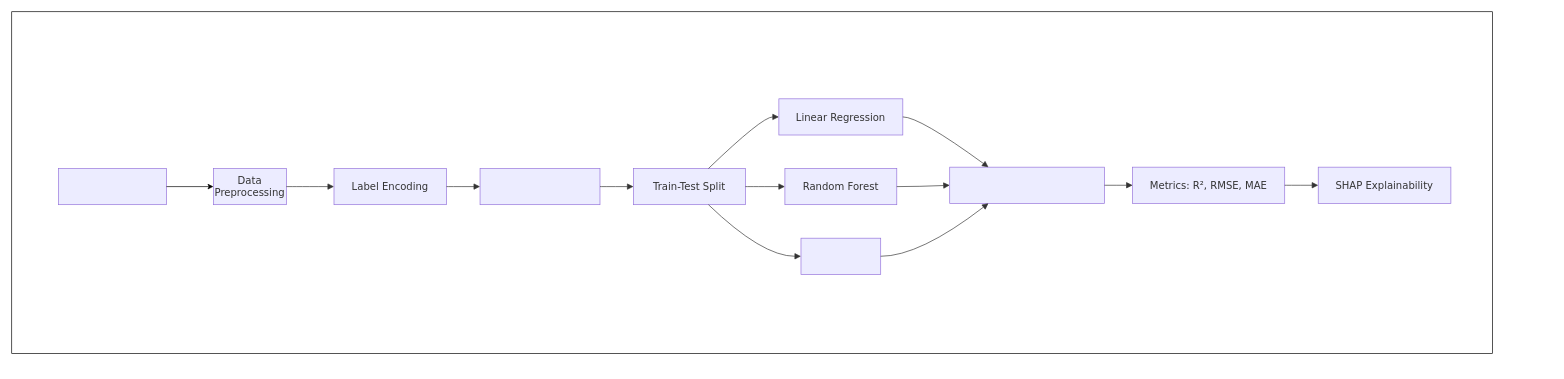
Some shapes in this 1564 by 379 pixel diagram are drawn without their labels. Each missing label, with the box of its shape:
Irish River Dataset: (58, 168, 166, 205)
Performance Evaluation: (949, 166, 1104, 203)
Standard Scaling: (479, 168, 600, 205)
XGBoost: (800, 238, 881, 274)
